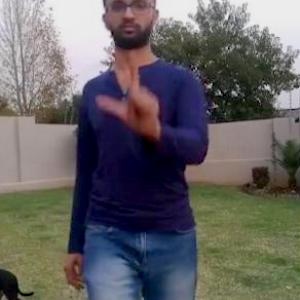land_hand: (92, 60, 164, 136)
